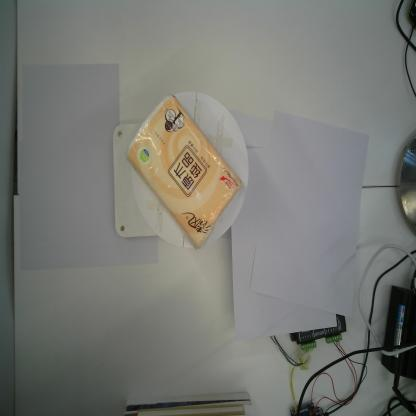Tissue: (126, 94, 244, 252)
